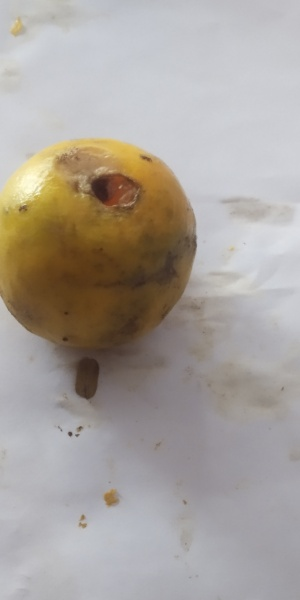BAD: (1, 137, 203, 358)
